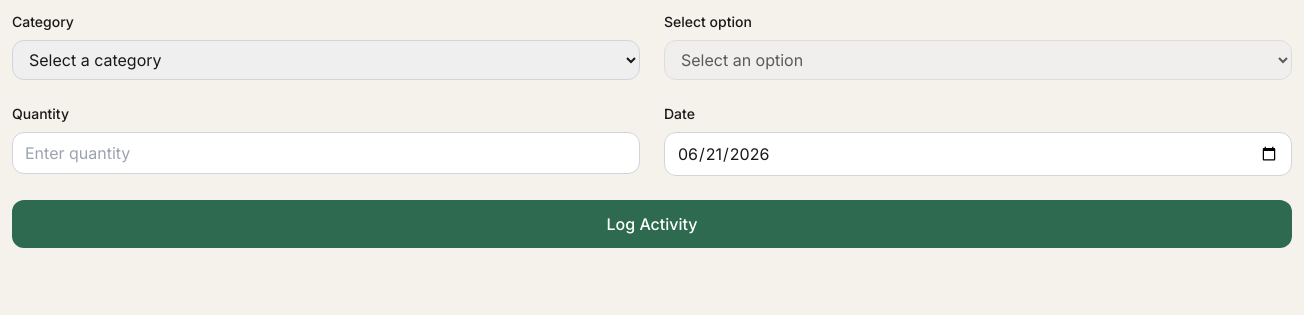
ActivityForm Validation › rejects submission when required fields are empty
The width and height of the screenshot is (1304, 315).
Click the button "Log Activity" at (652, 224), box [12,200,1292,248]
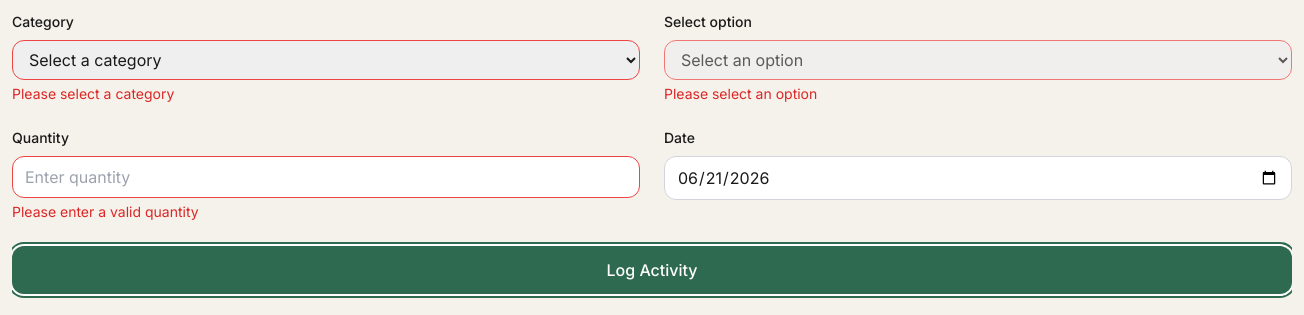
Expected: the text "Please select a category" is shown, [12,85,174,102]
Expected: the text "Please select an option" is shown, [664,85,817,102]
Expected: the text "Please enter a valid quantity" is shown, [12,203,199,220]
